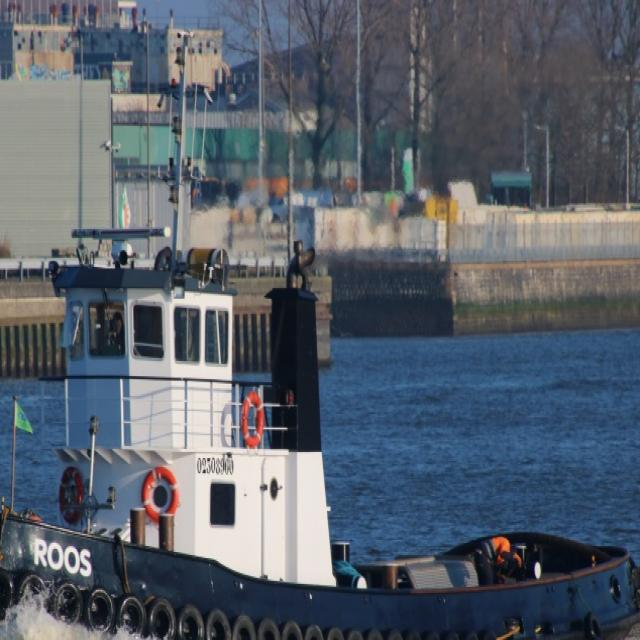tugboat: (1, 16, 640, 640)
